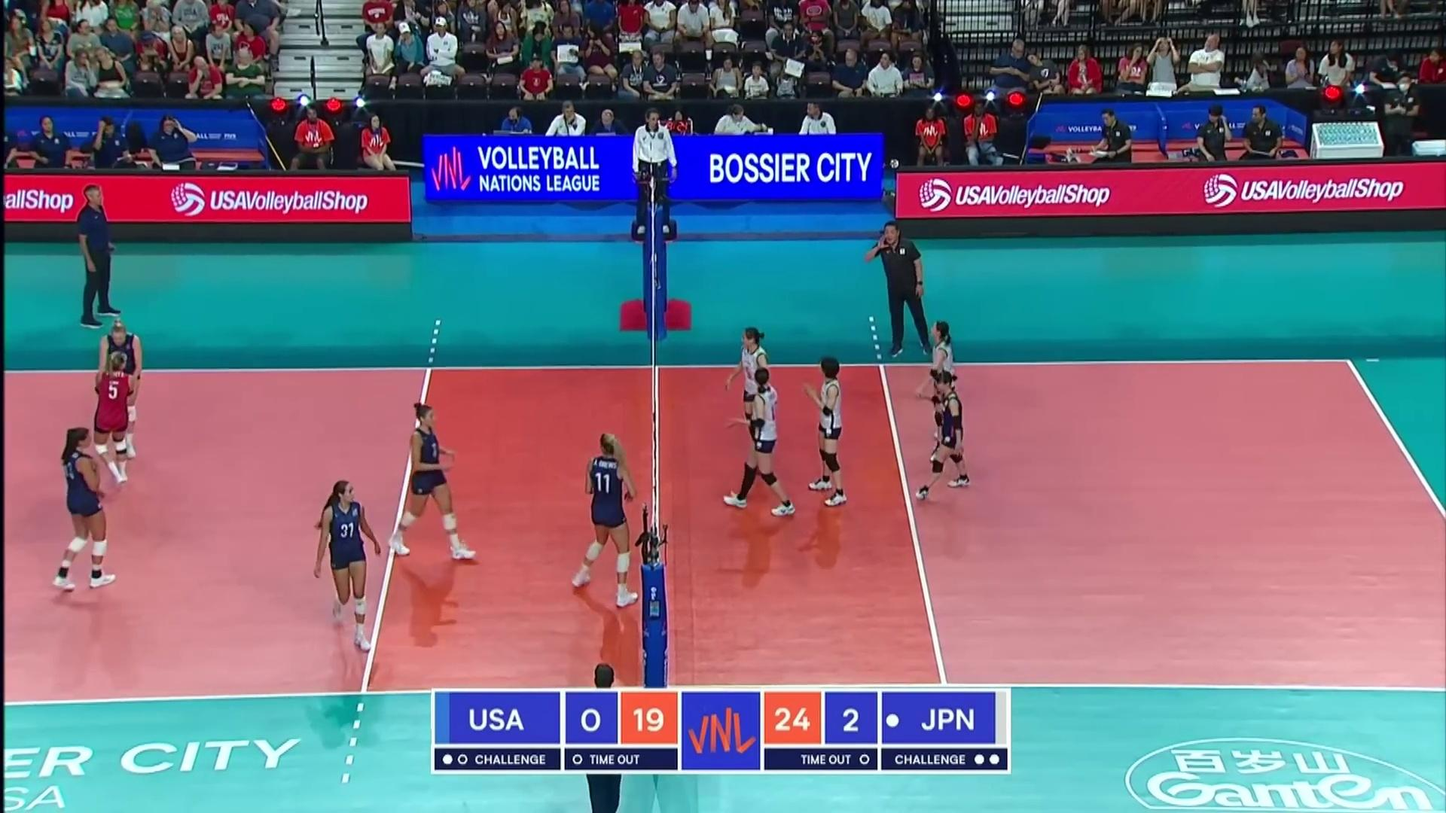player: (386, 402, 474, 564), (47, 421, 125, 594), (311, 484, 383, 653), (720, 360, 796, 516), (579, 437, 649, 605), (79, 343, 144, 496), (731, 326, 787, 482), (806, 348, 850, 511), (95, 318, 146, 457), (929, 366, 975, 499), (922, 313, 961, 469)
refree: (566, 665, 640, 813), (624, 102, 677, 243)
